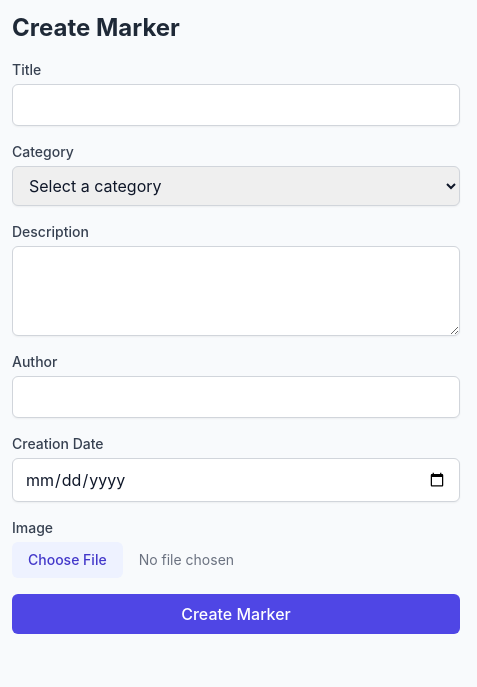
Scenario: MarkerForm › shows API error message on failure
In the field labelled "Title": (236, 105) [12,84,460,126], type "Art"
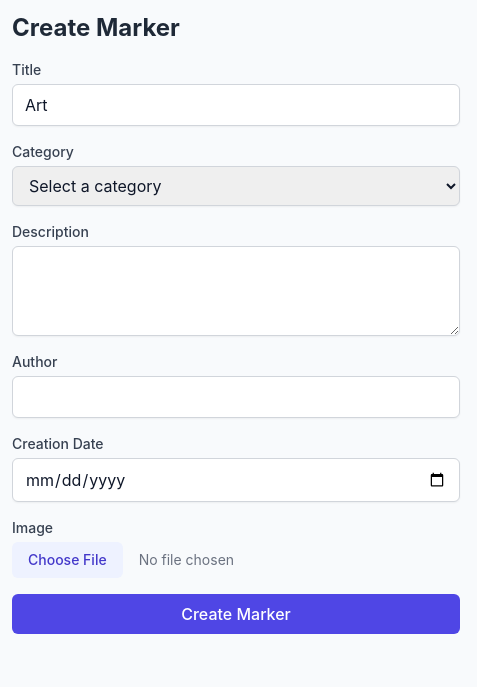
Select "Mural" in the dropdown labelled "Category": (236, 186) [12,166,460,206]
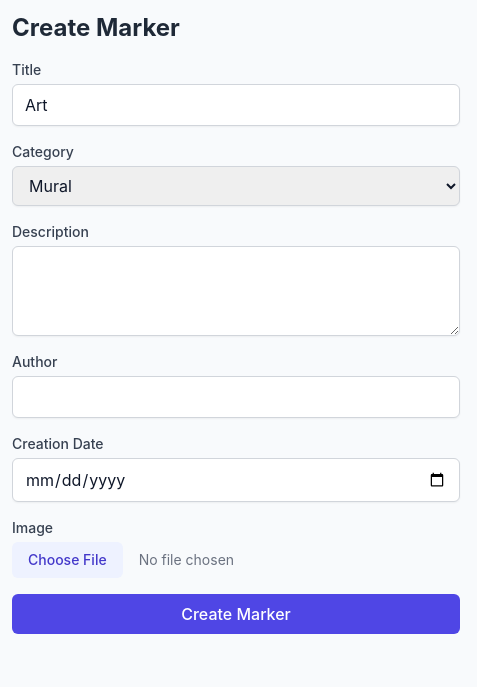
Click the button "Create Marker": (236, 614) [12,594,460,634]
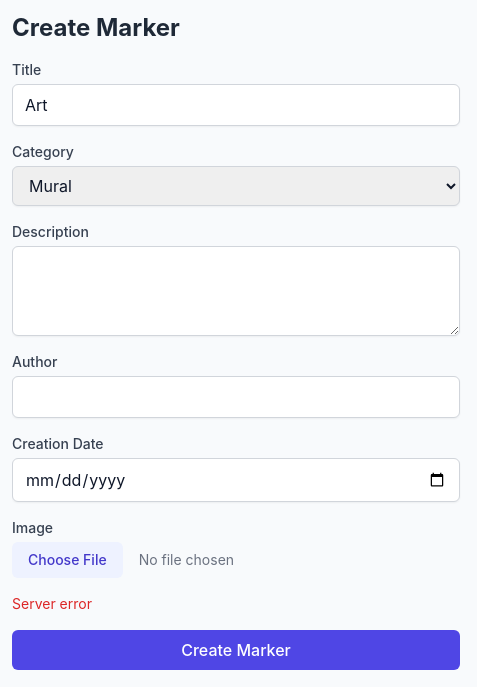
expect the text "Server error" is shown: met, box [12,595,92,612]
